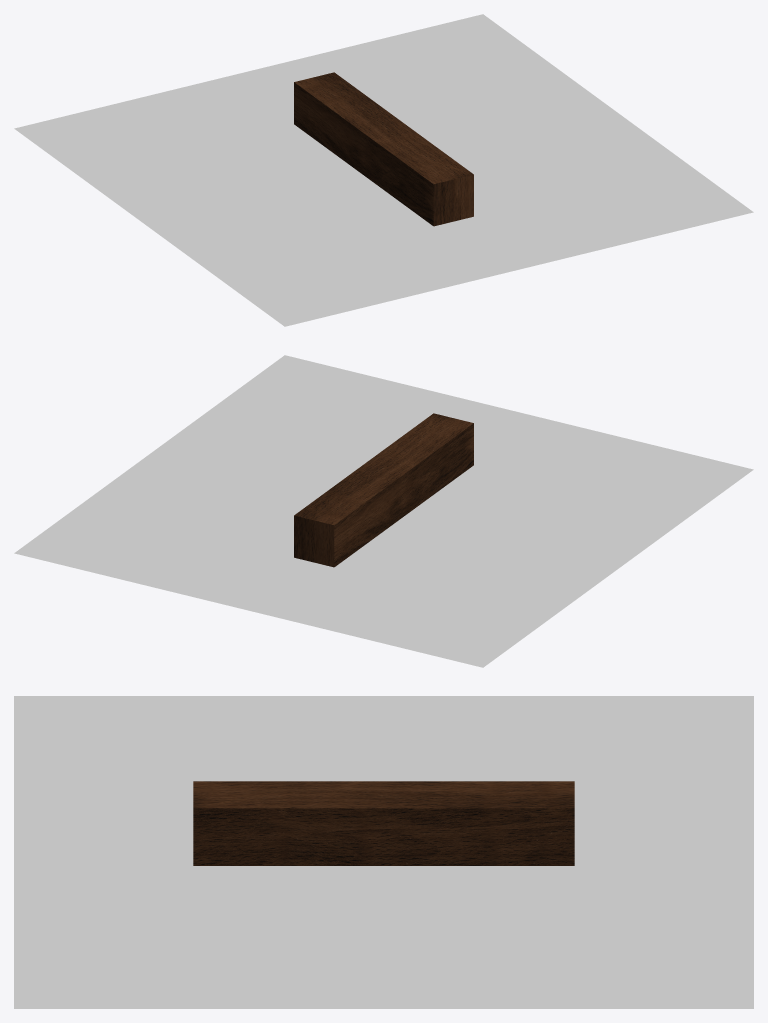
The model's file is cafe.glb.
3 renders of one model, top to bottom at view 1: azimuth 30°, elevation 25°; view 2: azimuth 150°, elevation 25°; view 3: azimuth 270°, elevation 25°, orthographic. The views are drawn at different scales.
Parts seen in each view (by area): view 1: floor, bar; view 2: floor, bar; view 3: floor, bar.
Boxes of the visible parts, x1,y1,x2,y2 form: floor: (14, 14, 753, 326); bar: (294, 72, 473, 226); floor: (14, 355, 753, 667); bar: (294, 413, 473, 567); floor: (14, 696, 753, 1008); bar: (193, 781, 574, 865).
Bounding box in the file's own units: 23.28 × 2 × 23.28.
Materials: 2 (1 with a texture image).
